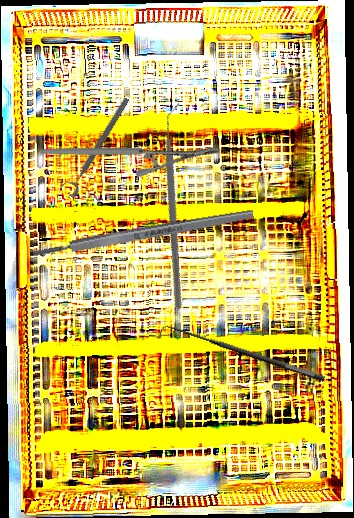Chopper: (80, 102, 277, 311)
Fixation Ring: (58, 92, 133, 199)
Hook Surgical: (157, 318, 326, 395)
Needle Holder: (40, 92, 221, 208)
Scalpel Handle: (31, 207, 255, 261)
